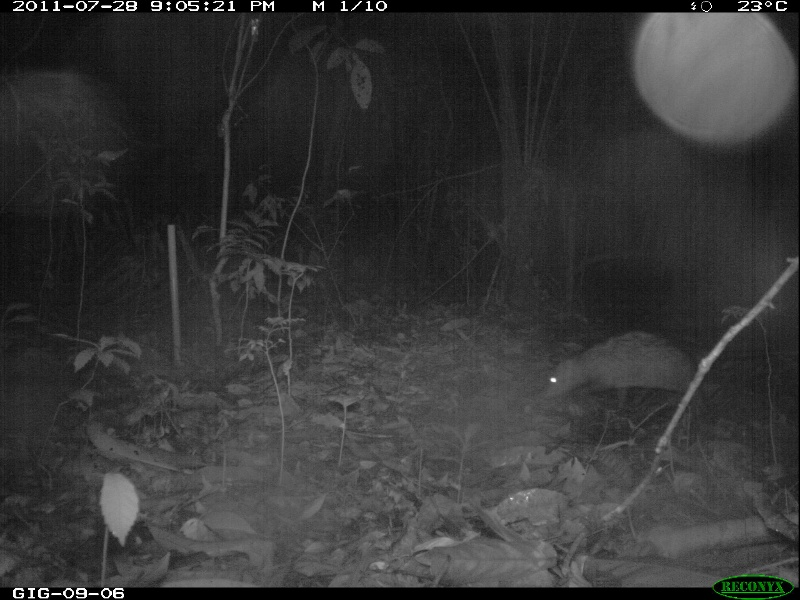opossum: (538, 322, 721, 425)
